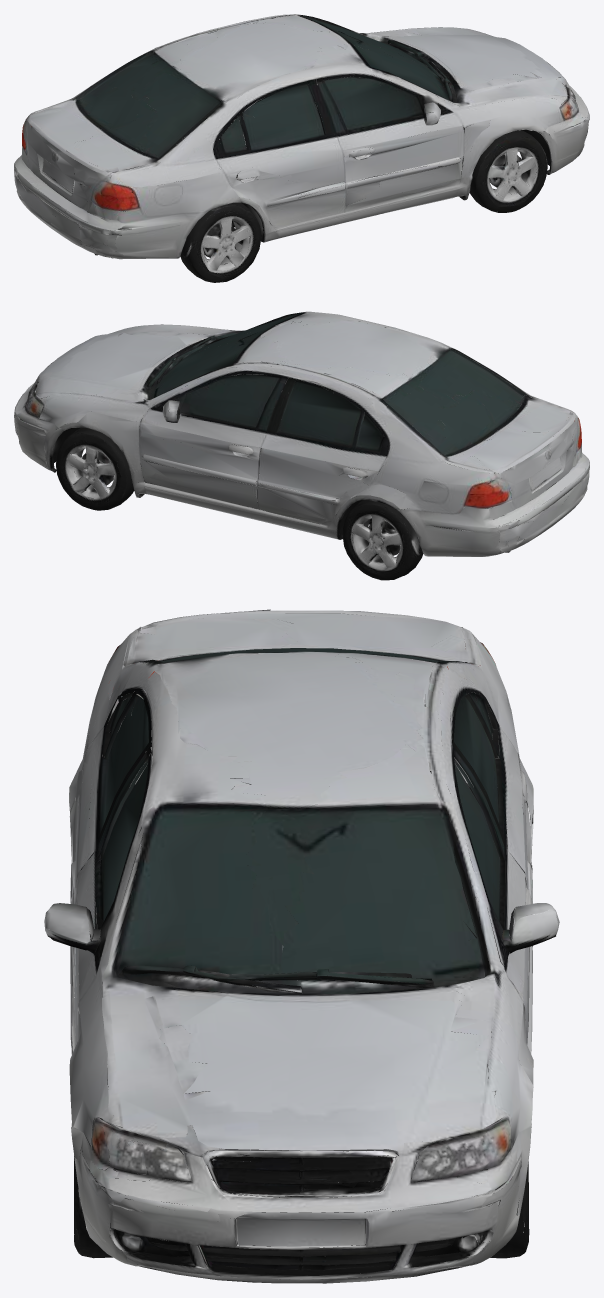
File: traffic_sedan.glb
The picture shows the model from 3 angles, top to bottom: view 1: azimuth 30°, elevation 25°; view 2: azimuth 150°, elevation 25°; view 3: azimuth 270°, elevation 25°; orthographic projection. The views are drawn at different scales.
Visible parts, largest first — view 1: Body, Wheel_RR, Wheel_FR; view 2: Body, Wheel_RL, Wheel_FL; view 3: Body, Wheel_FR, Wheel_FL.
Part boxes in pixels (bbox=[...]): Body: bbox=[14, 14, 589, 264]; Wheel_RR: bbox=[180, 202, 265, 282]; Wheel_FR: bbox=[469, 130, 547, 212]; Body: bbox=[14, 311, 589, 567]; Wheel_RL: bbox=[337, 499, 423, 580]; Wheel_FL: bbox=[56, 427, 134, 510]; Body: bbox=[44, 609, 559, 1283]; Wheel_FR: bbox=[74, 1150, 112, 1258]; Wheel_FL: bbox=[490, 1162, 529, 1258].
Size of the model in its own units: 1 by 0.3226 by 0.4344.
Materials: 1 (1 with a texture image).
